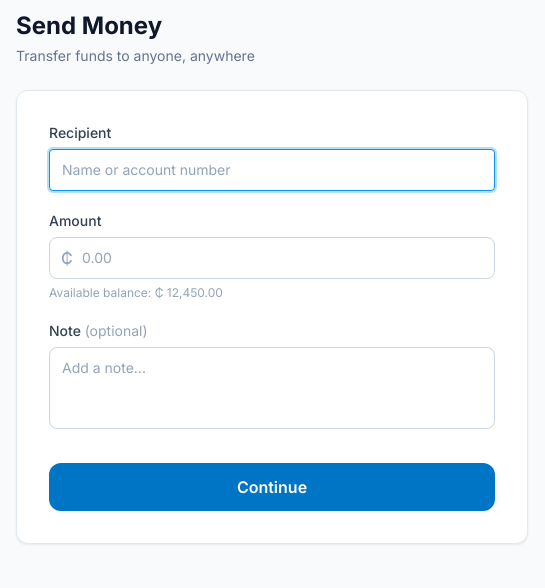
Test: SendMoneyScreen › shows error when amount exceeds balance
This screenshot has width=545, height=588.
Step 1. Type "Esi Mensah" into the field labelled "Recipient" → (272, 170), box [49,149,495,191]
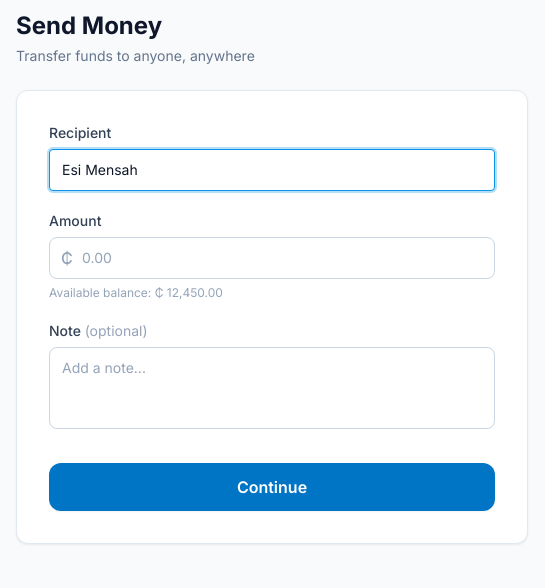
Step 2. Type "99999999" into the field labelled "Amount" → (272, 258), box [49,237,495,279]
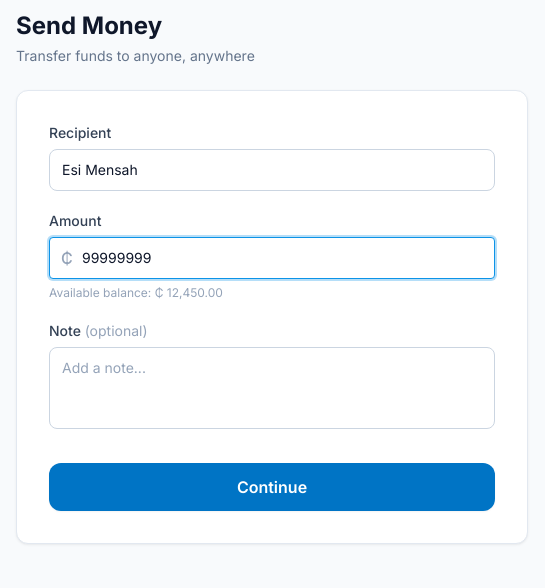
Step 3. Click the button "Continue" → (272, 487), box [49,463,495,511]
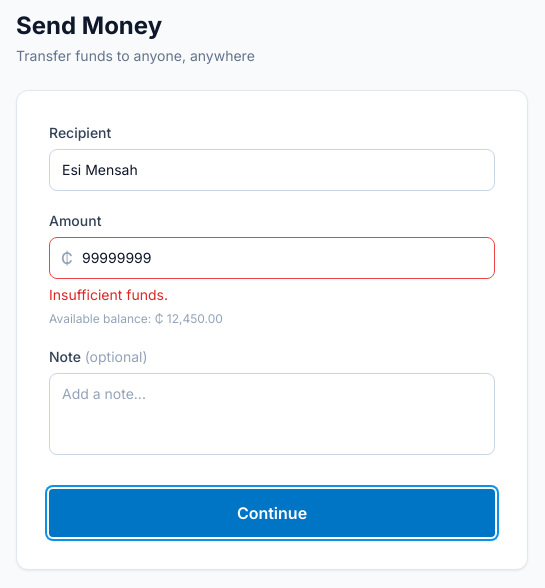
Check: the text "Insufficient funds." is shown, box [49,286,168,303]
